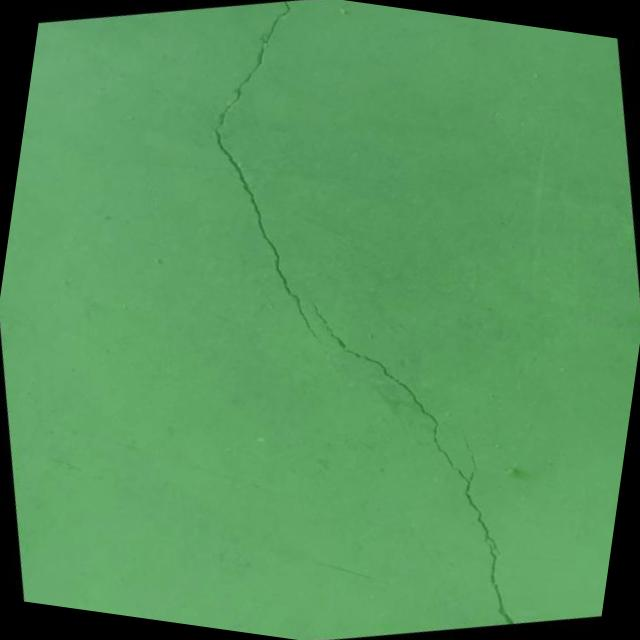crack: (262, 259, 560, 640), (155, 0, 368, 366), (432, 414, 483, 479)
